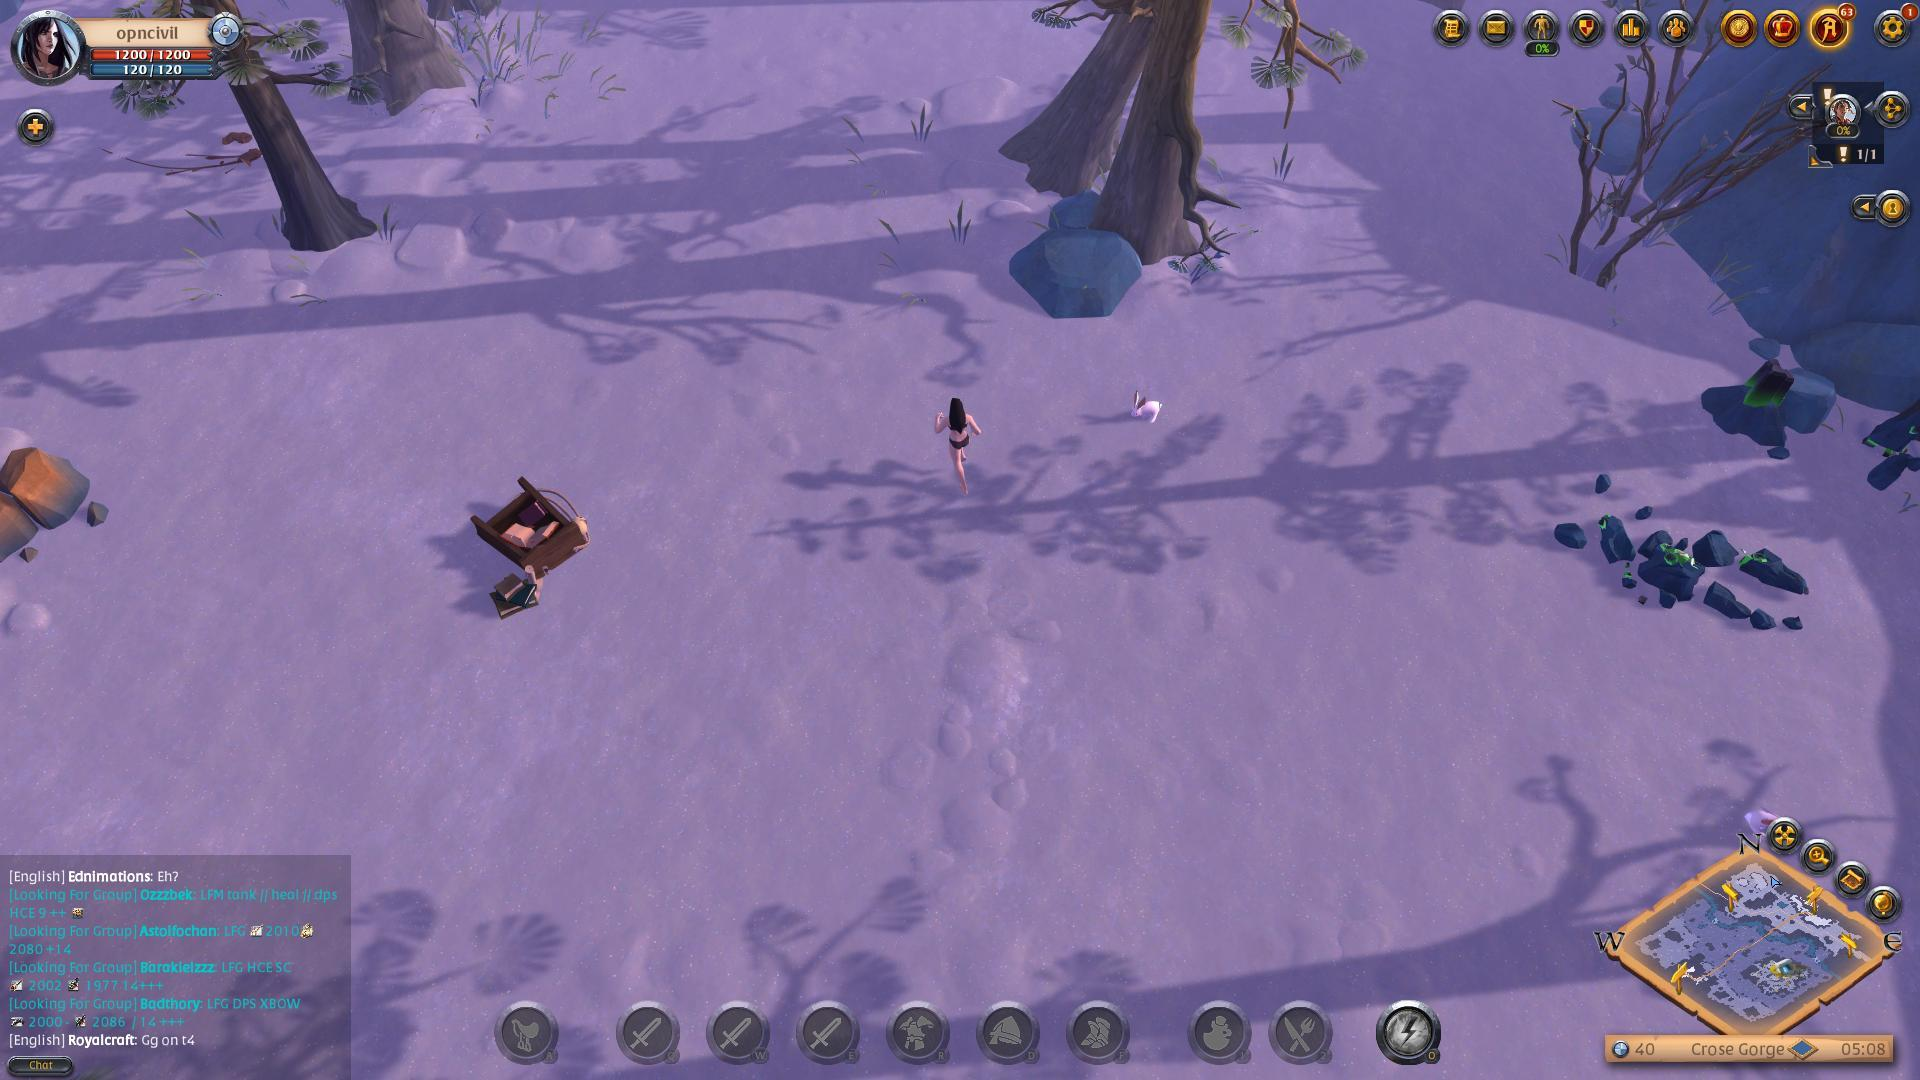limestone: (0, 440, 108, 574)
tin_ore: (1692, 349, 1820, 467)
